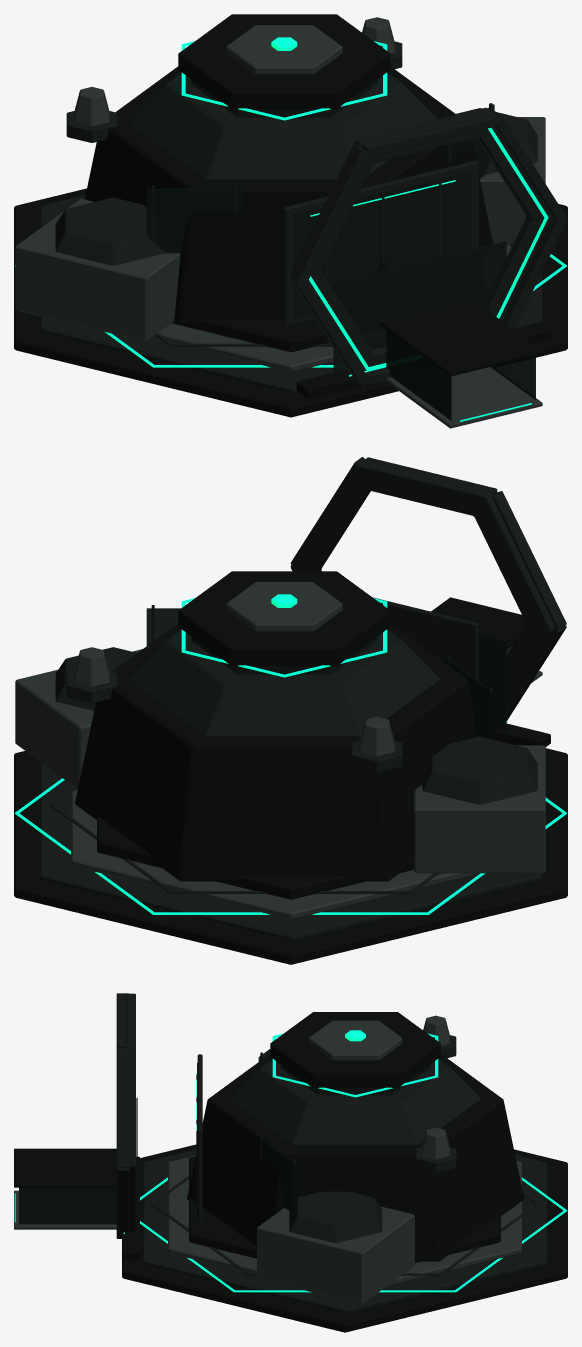
File: lorigine-lod1.glb
3 views of the same model, one above another, from view 1: azimuth 30°, elevation 25°; view 2: azimuth 150°, elevation 25°; view 3: azimuth 270°, elevation 25° (orthographic). The views are drawn at different scales.
Visible parts, largest first — view 1: ORG_ResearchPavilion.001, ORG_ResearchVaultShoulder.001, ORG_FrontAtriumFrame.001, ORG_Foundation.001, ORG_WestGallery.001, ORG_ResearchVaultCap.001, ORG_FrontAtriumGlass.001, ORG_LaboratoryThreshold.001, ORG_ThresholdGlass.001, ORG_CoveredWalkwayRoof.001, ORG_TerraceLower.001, ORG_WestGallery_Roof.001 (+23 smaller); view 2: ORG_ResearchPavilion.001, ORG_ResearchVaultShoulder.001, ORG_Foundation.001, ORG_TerraceLower.001, ORG_LaboratoryThreshold.001, ORG_ResearchVaultCap.001, ORG_WestGallery.001, ORG_TerraceUpper.001, ORG_WestGallery_Roof.001, ORG_EastGallery.001, ORG_CentralCoreHousing.001, ORG_FrontAtriumFrame.001 (+18 smaller); view 3: ORG_ResearchPavilion.001, ORG_ResearchVaultShoulder.001, ORG_Foundation.001, ORG_TerraceLower.001, ORG_EastGallery.001, ORG_ResearchVaultCap.001, ORG_TerraceUpper.001, ORG_CoveredWalkwayRoof.001, ORG_EastGallery_Roof.001, ORG_CoveredWalkwayGlass_East.001, ORG_LaboratoryPlinth.001, ORG_CentralCoreHousing.001 (+15 smaller).
Boxes of the visible parts, x1,y1,x2,y2 form: ORG_ResearchPavilion.001: (84,66,493,324); ORG_ResearchVaultShoulder.001: (128,72,437,179); ORG_FrontAtriumFrame.001: (283,160,478,326); ORG_Foundation.001: (14,188,567,417); ORG_WestGallery.001: (15,198,180,341); ORG_ResearchVaultCap.001: (178,14,390,109); ORG_FrontAtriumGlass.001: (294,170,470,318); ORG_LaboratoryThreshold.001: (291,107,551,371); ORG_ThresholdGlass.001: (333,241,506,373); ORG_CoveredWalkwayRoof.001: (380,299,542,376); ORG_TerraceLower.001: (40,195,541,394); ORG_WestGallery_Roof.001: (55,197,167,265); ORG_ResearchPavilion.001: (75,623,476,881); ORG_ResearchVaultShoulder.001: (128,629,440,736); ORG_Foundation.001: (14,748,567,964); ORG_TerraceLower.001: (40,762,541,941); ORG_LaboratoryThreshold.001: (291,460,555,704); ORG_ResearchVaultCap.001: (178,571,390,666); ORG_WestGallery.001: (414,745,545,873); ORG_TerraceUpper.001: (71,784,479,919); ORG_WestGallery_Roof.001: (422,736,537,804); ORG_EastGallery.001: (15,649,142,788); ORG_CentralCoreHousing.001: (226,582,342,631); ORG_FrontAtriumFrame.001: (373,597,478,680); ORG_ResearchPavilion.001: (187,1054,523,1261); ORG_ResearchVaultShoulder.001: (230,1059,480,1144); ORG_Foundation.001: (122,1144,567,1332); ORG_TerraceLower.001: (143,1149,546,1313); ORG_EastGallery.001: (257,1207,414,1304); ORG_ResearchVaultCap.001: (270,1012,440,1088); ORG_TerraceUpper.001: (168,1155,521,1285); ORG_CoveredWalkwayRoof.001: (14,1148,116,1187); ORG_EastGallery_Roof.001: (289,1191,382,1243); ORG_CoveredWalkwayGlass_East.001: (19,1187,116,1224); ORG_LaboratoryPlinth.001: (189,1156,500,1262); ORG_CentralCoreHousing.001: (308,1020,402,1060).
Size of the model in its own units: 67.82 by 29.94 by 73.14.
